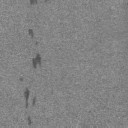red iron: (32, 53, 42, 68), (24, 87, 30, 109), (28, 28, 34, 38), (27, 116, 32, 126), (32, 96, 36, 106), (30, 0, 37, 5)
